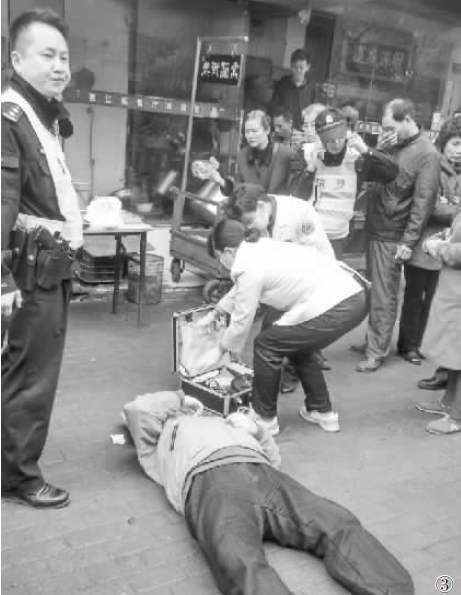falling: (119, 369, 431, 595)
